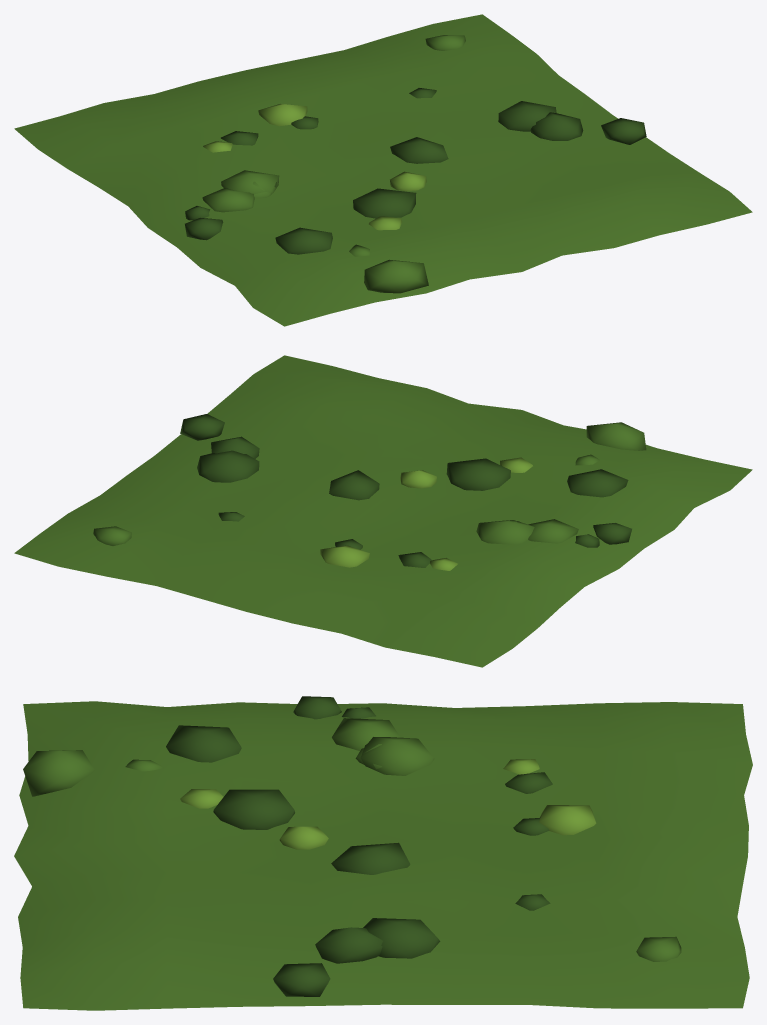
Rendered from PLANT_Moss_Cap_4.glb.
The picture shows the model from 3 angles, top to bottom: view 1: azimuth 30°, elevation 25°; view 2: azimuth 150°, elevation 25°; view 3: azimuth 270°, elevation 25°; orthographic projection. The views are drawn at different scales.
Parts seen in each view (by area): view 1: PLANT_Moss_Cap_4; view 2: PLANT_Moss_Cap_4; view 3: PLANT_Moss_Cap_4.
Part boxes in pixels (bbox=[...]): PLANT_Moss_Cap_4: bbox=[14, 14, 752, 326]; PLANT_Moss_Cap_4: bbox=[14, 355, 752, 667]; PLANT_Moss_Cap_4: bbox=[14, 696, 752, 1010].
Size of the model in its own units: 4.27 by 0.2653 by 4.31.
